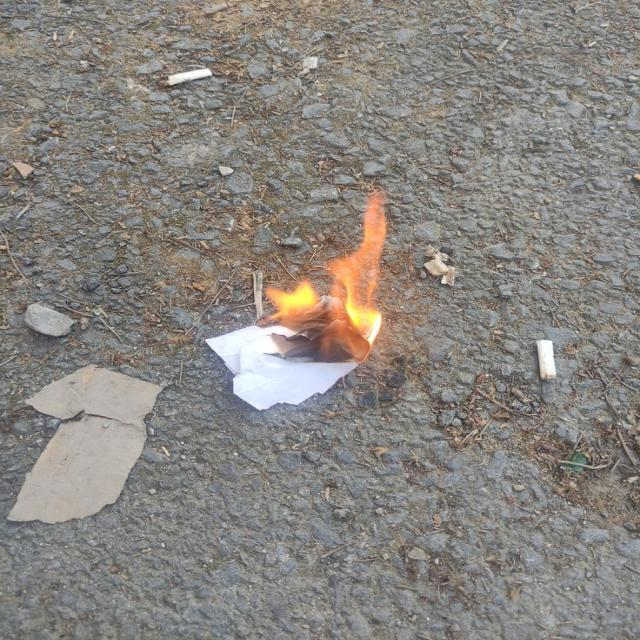fire: (325, 189, 386, 362), (261, 277, 321, 326)
